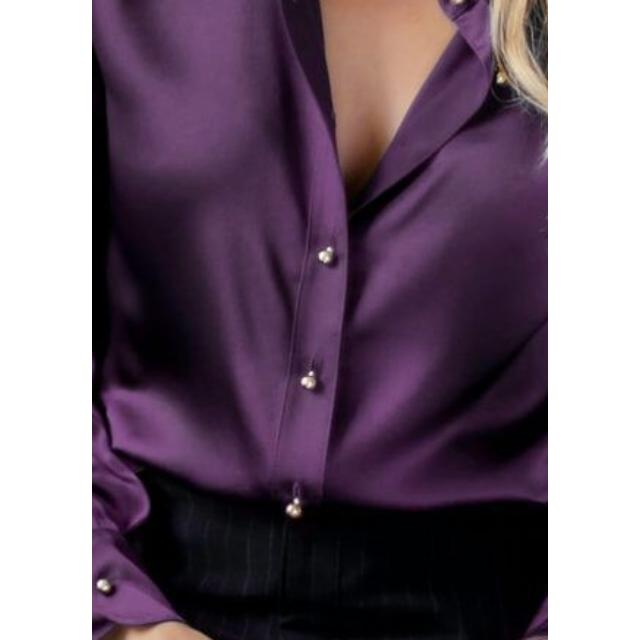silk: (92, 0, 548, 518)
